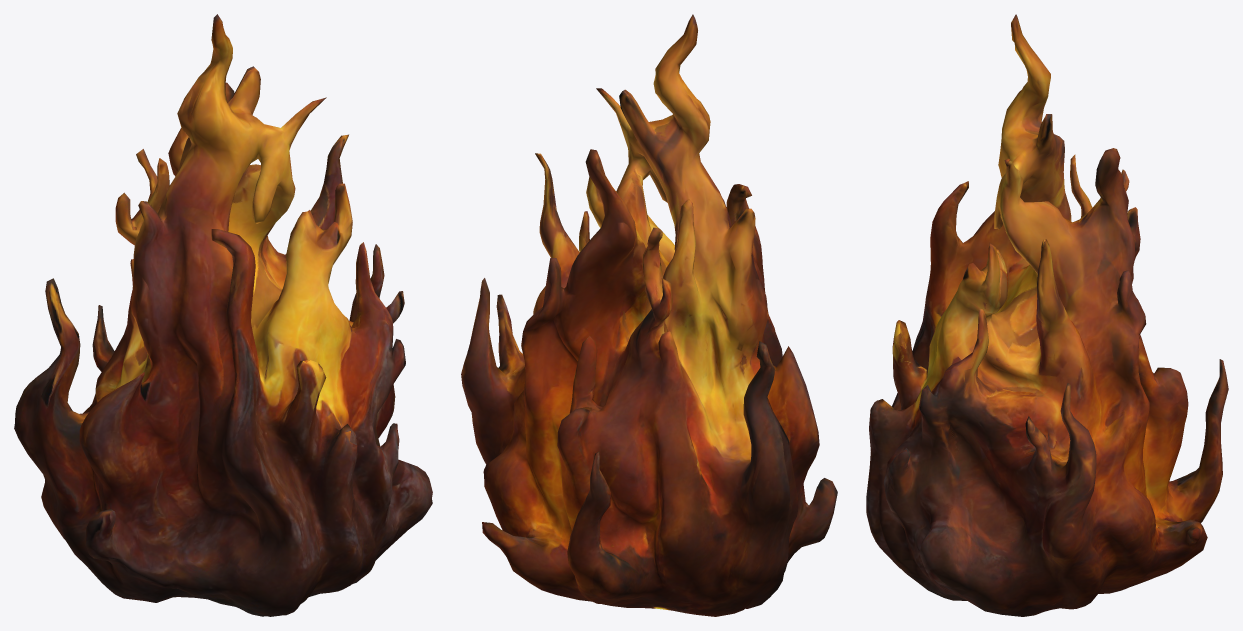
Rendered from una_llama_de_fuego_s_1125044911_refine.fbx.
3 views of the same model, side by side, from view 1: azimuth 30°, elevation 25°; view 2: azimuth 150°, elevation 25°; view 3: azimuth 270°, elevation 25° (orthographic). The views are drawn at different scales.
Visible parts, largest first — view 1: Mesh_0; view 2: Mesh_0; view 3: Mesh_0.
Boxes of the visible parts, x1,y1,x2,y2 form: Mesh_0: [14, 14, 432, 616]; Mesh_0: [461, 14, 837, 616]; Mesh_0: [866, 14, 1228, 616].
Bounding box in the file's own units: 128 × 201 × 120.
Materials: 1 (1 with a texture image).
